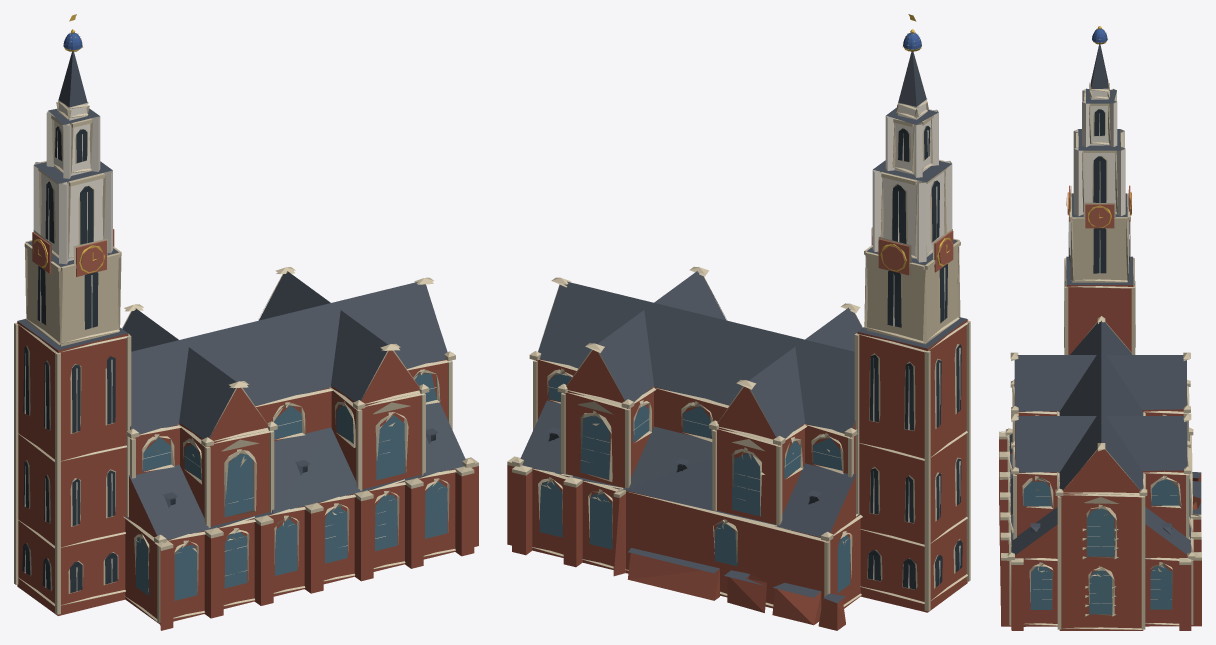
Rendered from westerkerk.lod1.glb.
3 views of the same model, side by side, from view 1: azimuth 30°, elevation 25°; view 2: azimuth 150°, elevation 25°; view 3: azimuth 270°, elevation 25° (orthographic). The views are drawn at different scales.
Parts seen in each view (by area): view 1: westerkerk; view 2: westerkerk; view 3: westerkerk.
Part boxes in pixels (x1,y1,x2,y2): westerkerk: (14, 14, 478, 630); westerkerk: (507, 14, 970, 630); westerkerk: (999, 26, 1201, 630).
Bounding box in the file's own units: 62.75 × 87 × 33.65.
